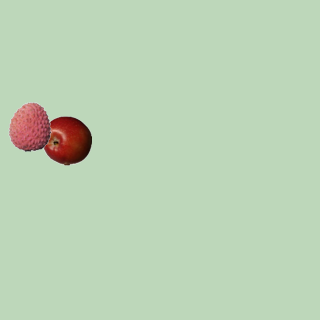Apple Braeburn: (41, 115, 91, 165)
Lychee: (4, 101, 54, 151)
